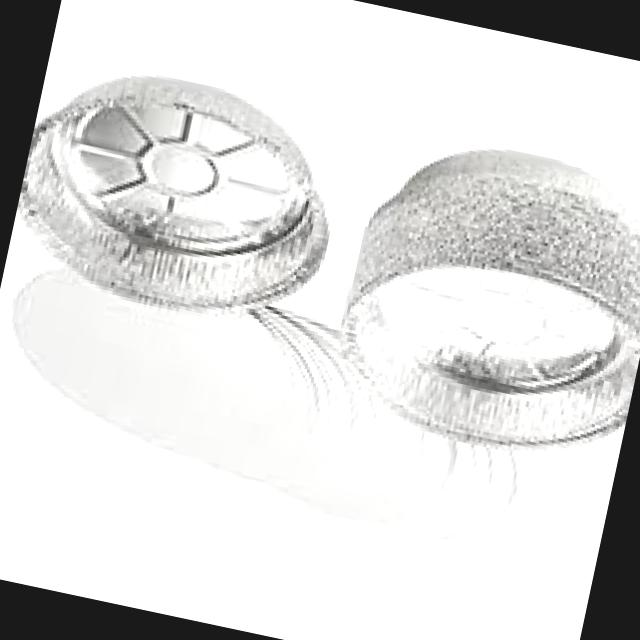kim_loai: (341, 151, 640, 448), (17, 76, 327, 307)
